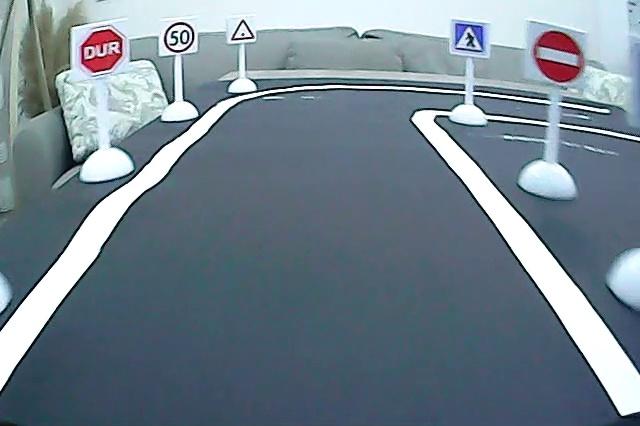do not enter: (530, 25, 587, 86)
green light: (229, 15, 256, 43)
pedestrian crossing: (452, 20, 487, 54)
speed limit 50: (162, 20, 197, 54)
stop sign: (78, 25, 128, 76)
